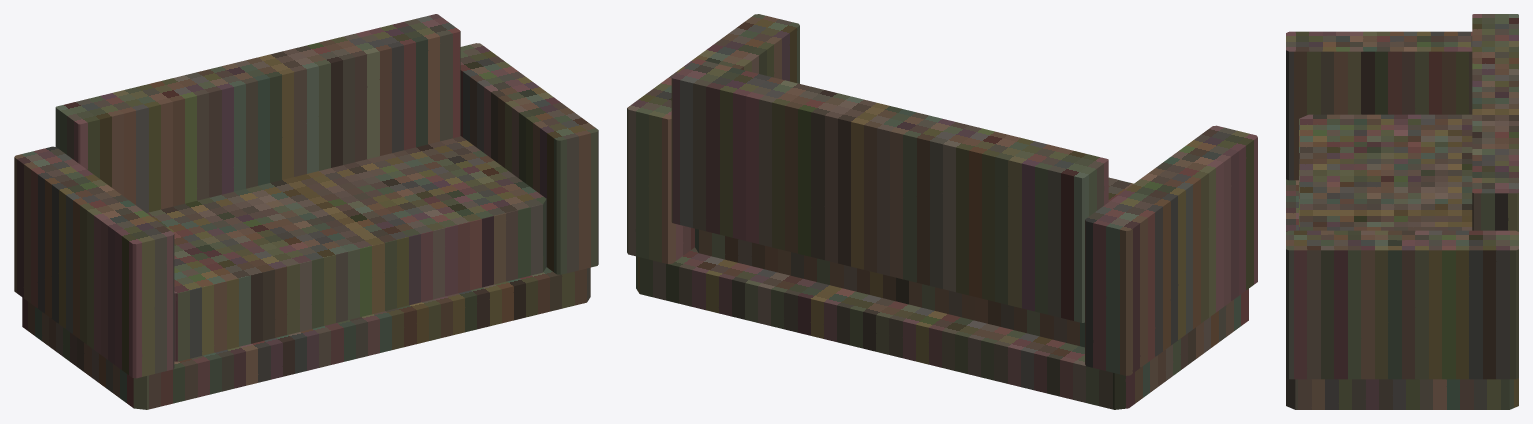
File: Couch.glb
3 renders of one model, left to right at view 1: azimuth 30°, elevation 25°; view 2: azimuth 150°, elevation 25°; view 3: azimuth 270°, elevation 25°, orthographic. The views are drawn at different scales.
Visible parts, largest first — view 1: Couch; view 2: Couch; view 3: Couch.
Part boxes in pixels (bbox=[...]): Couch: bbox=[14, 14, 598, 409]; Couch: bbox=[627, 14, 1257, 409]; Couch: bbox=[1286, 14, 1518, 409].
Size of the model in its own units: 2 by 0.85 by 0.9.
Materials: 1 (1 with a texture image).
